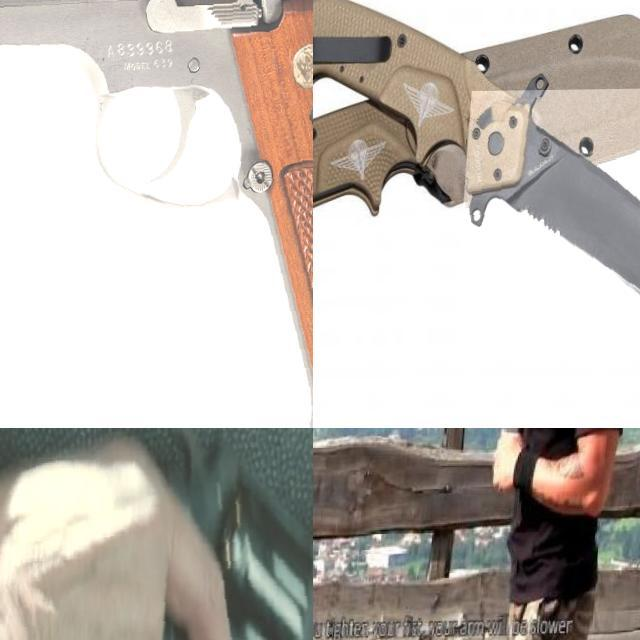-: (460, 88, 640, 352), (399, 428, 487, 468)
gun-knife-thesis - v11 Yolov5 augmented: (0, 0, 313, 428), (0, 428, 313, 640)
